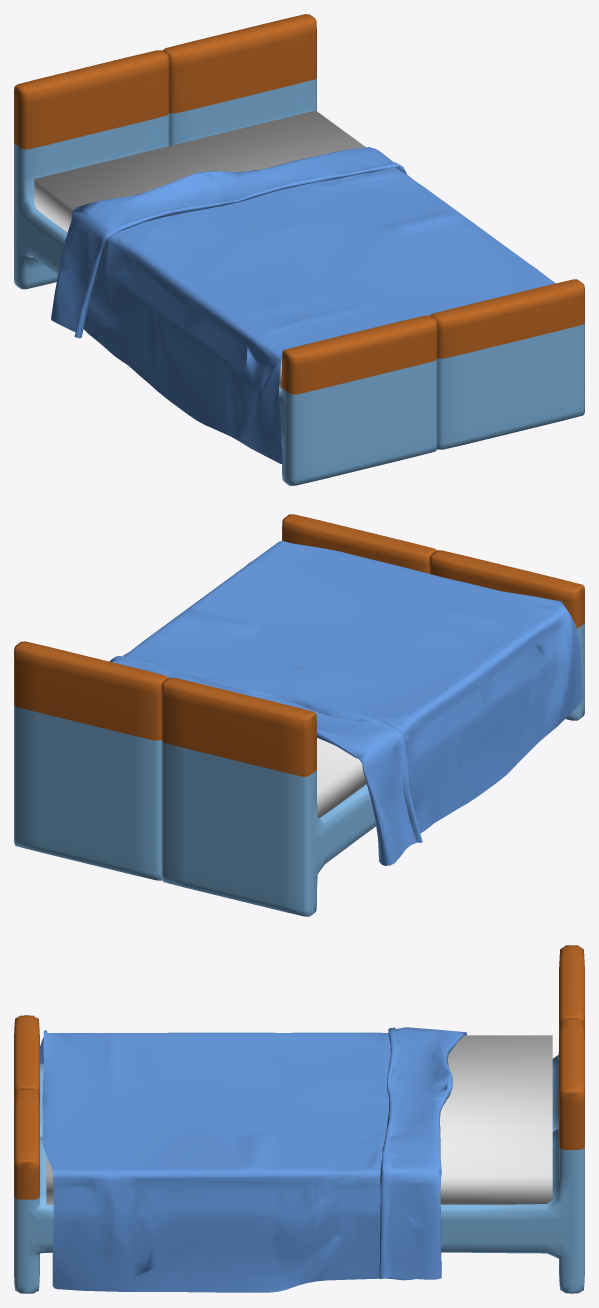
File: bed.fbx
3 views of the same model, one above another, from view 1: azimuth 30°, elevation 25°; view 2: azimuth 150°, elevation 25°; view 3: azimuth 270°, elevation 25° (orthographic).
Visible parts, largest first — view 1: Bed.003, Bed.002, Bed.001, Bed.004; view 2: Bed.003, Bed.002, Bed.001, Bed.004; view 3: Bed.003, Bed.004, Bed.002, Bed.001.
Part boxes in pixels (x1,y1,x2,y2): Bed.003: (51, 147, 555, 463); Bed.002: (14, 77, 584, 485); Bed.001: (14, 14, 584, 394); Bed.004: (34, 110, 365, 388); Bed.003: (109, 541, 582, 865); Bed.002: (14, 623, 584, 916); Bed.001: (14, 514, 584, 776); Bed.004: (317, 738, 366, 817); Bed.003: (40, 1027, 466, 1292); Bed.004: (46, 1035, 552, 1204); Bed.002: (14, 1052, 584, 1293); Bed.001: (14, 945, 584, 1199).
Bounding box in the file's own units: 460 × 260 × 660.
